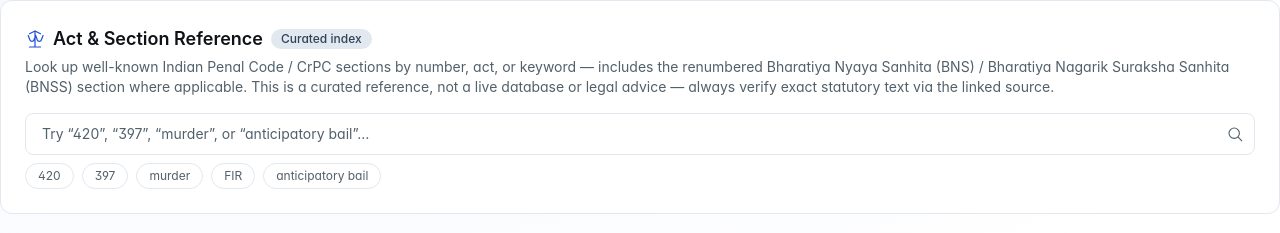
Test: ActSearch › clicking an example chip fills the search box
The width and height of the screenshot is (1280, 233).
Click the button "murder". click: [170, 176]
box: [136,163,203,189]
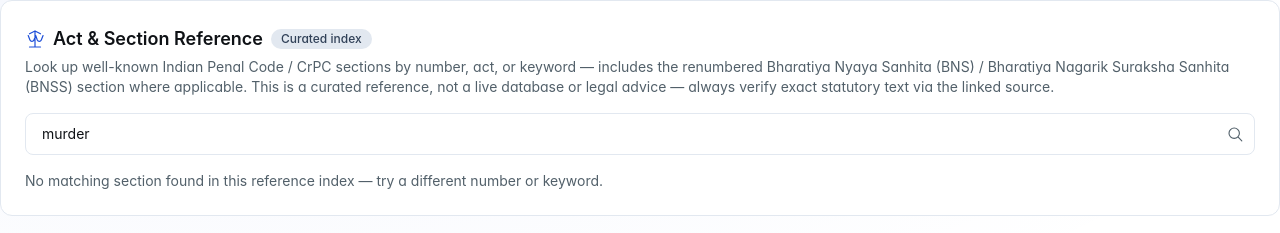
Result: the field with placeholder "Try “420”, “397”, “murder”, or “anticipatory bail”…" holds "murder" at [25,113,1255,155]
